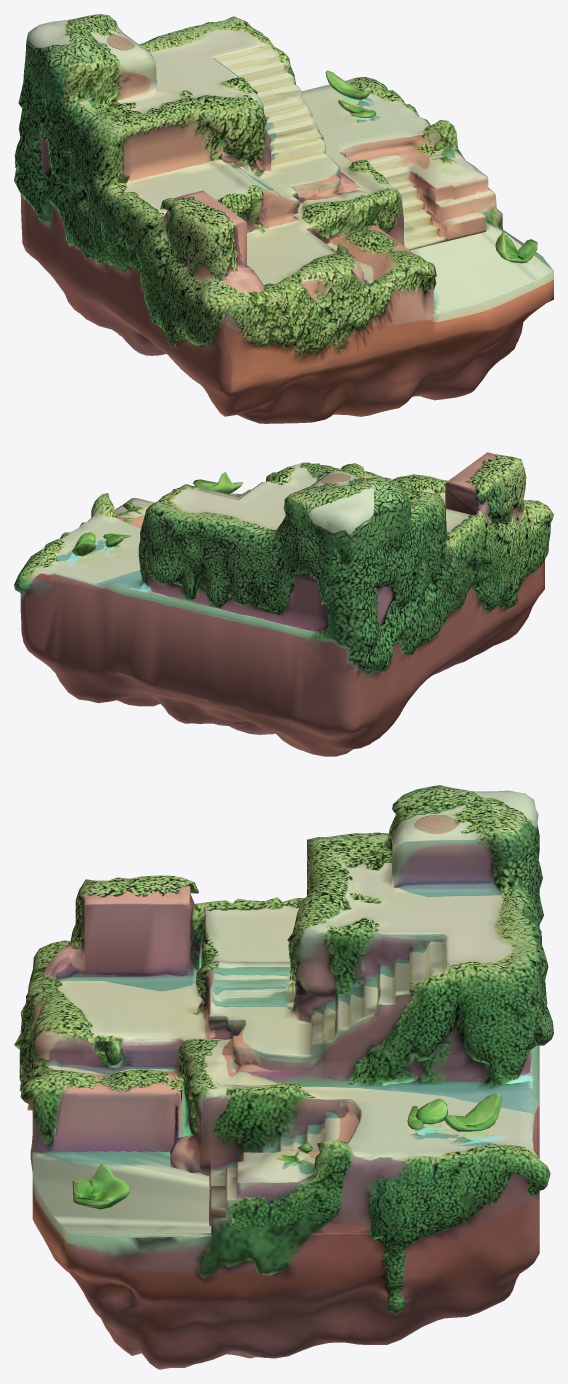
Rendered from Habitat_3 2.glb.
3 views of the same model, one above another, from view 1: azimuth 30°, elevation 25°; view 2: azimuth 150°, elevation 25°; view 3: azimuth 270°, elevation 25° (orthographic). The views are drawn at different scales.
Bounding box in the file's own units: 1.91 × 1.73 × 1.92.
1 material, 1 textured.
